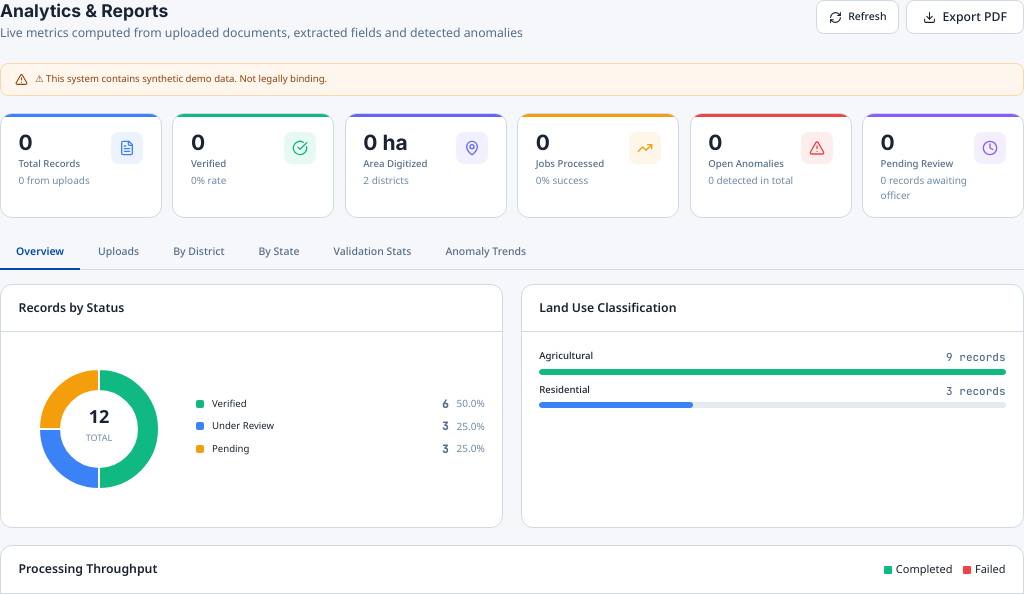
Test: ReportsPage with live analytics › shows empty states instead of invented data when nothing is uploaded
The width and height of the screenshot is (1024, 594).
Click the button "Uploads".
click(119, 253)  # box [82,236,155,270]
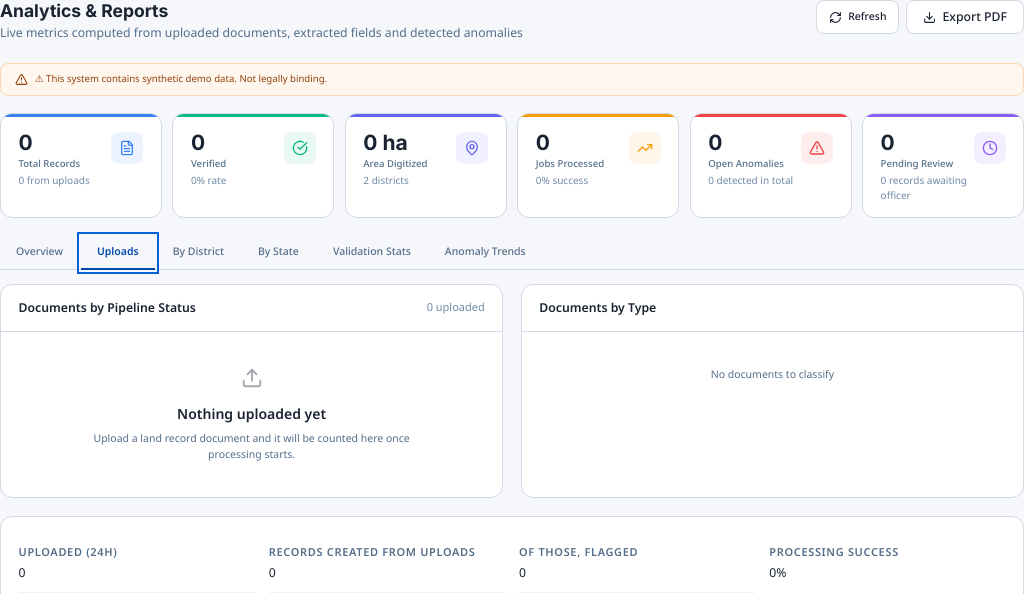
Expected: the text "Nothing uploaded yet" is shown, [177,403,326,424]
Click the button "Anomaly Trends".
click(485, 253)  # box [429,236,542,270]
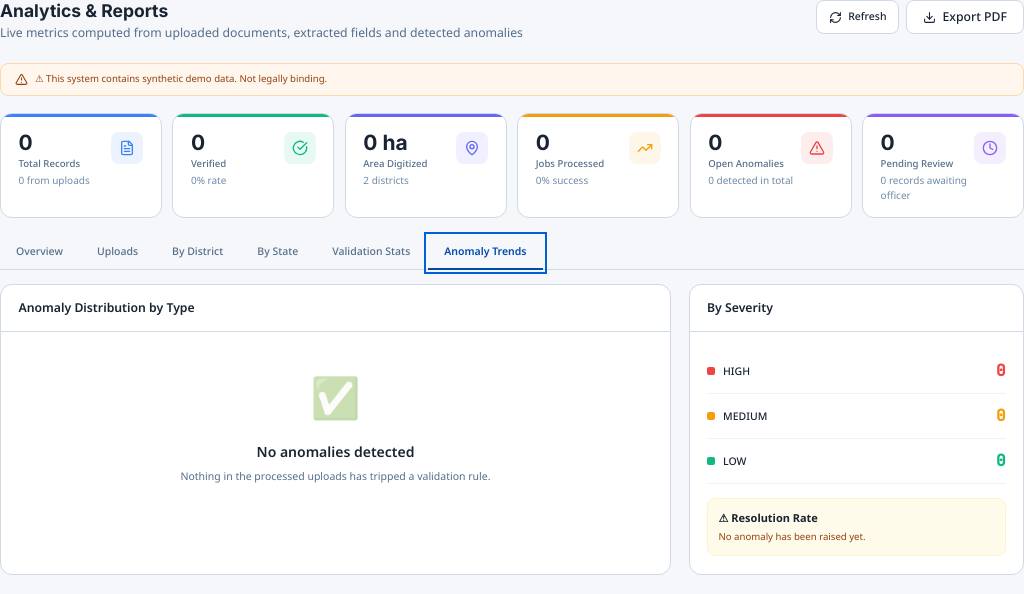
Expected: the text "No anomalies detected" is shown, [256,441,414,462]
